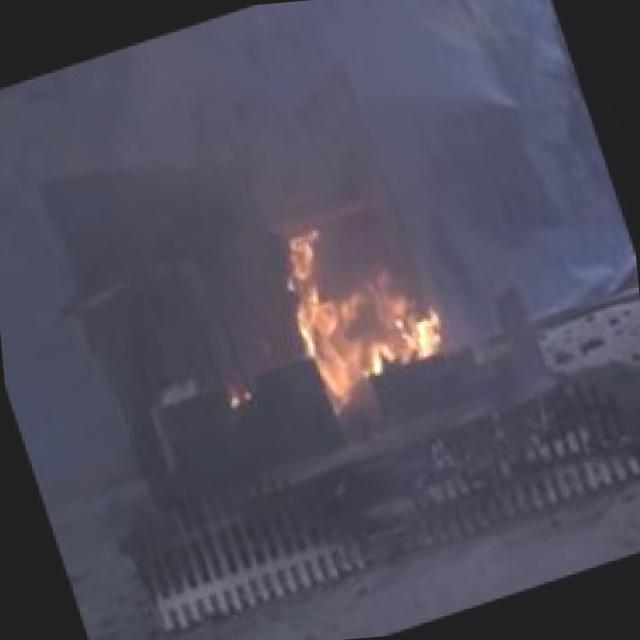fire: (262, 195, 456, 418)
